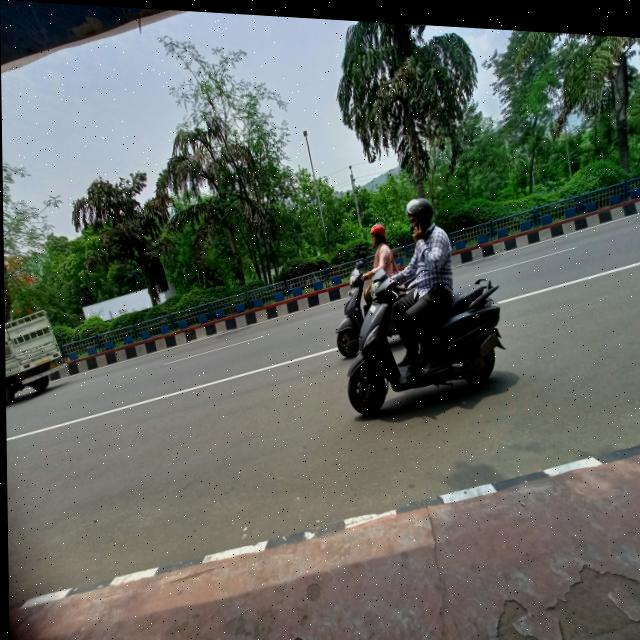bike: (339, 260, 509, 416)
